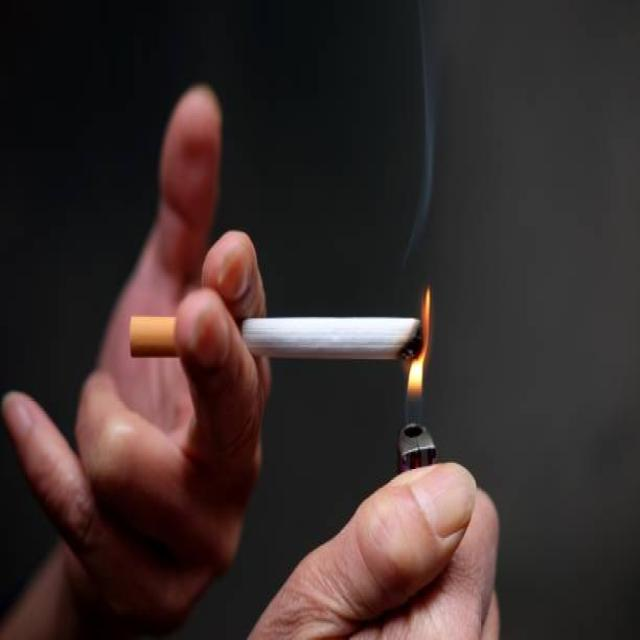Cigarette: (125, 302, 424, 362)
